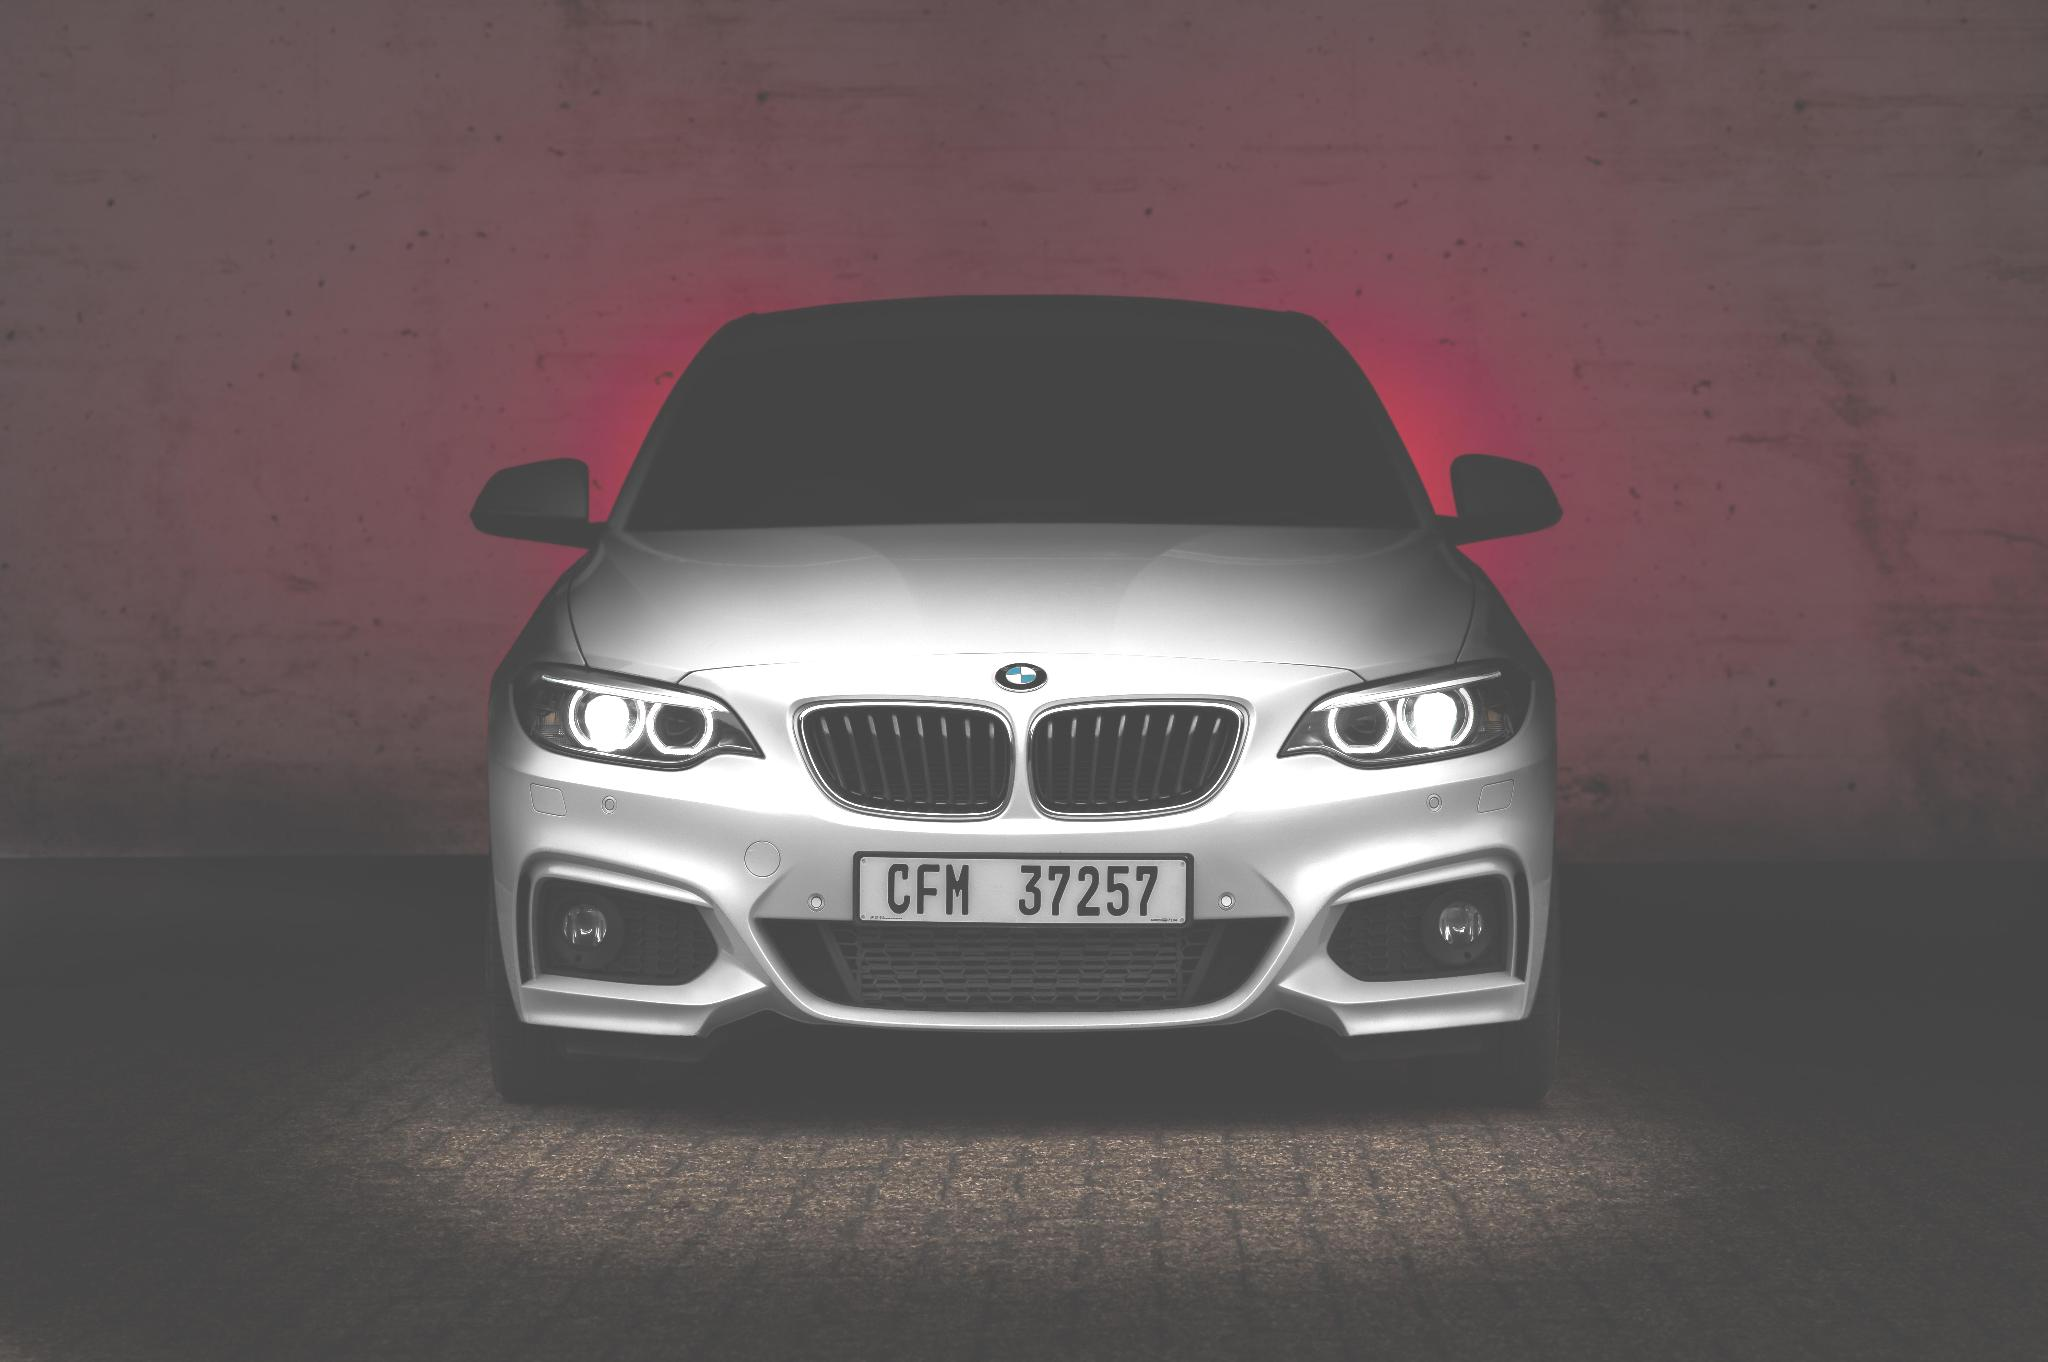bmw: (991, 651, 1051, 705)
